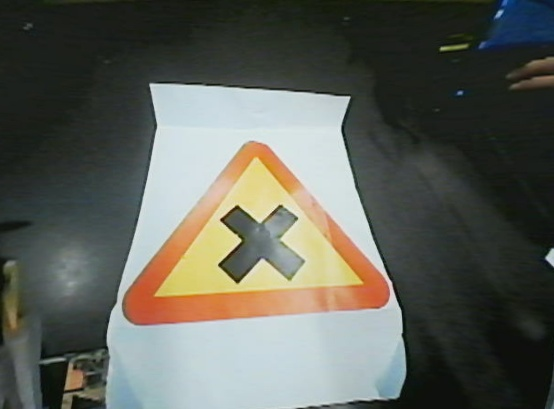junction: (100, 134, 405, 320)
